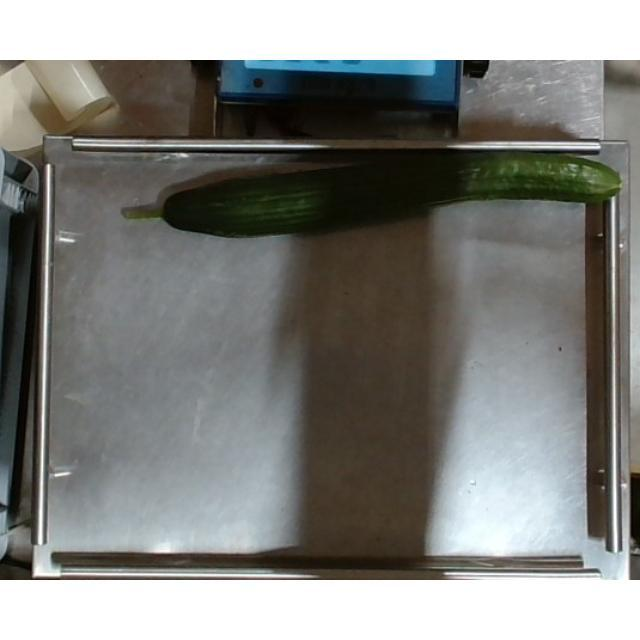cucumber: (121, 148, 625, 240)
